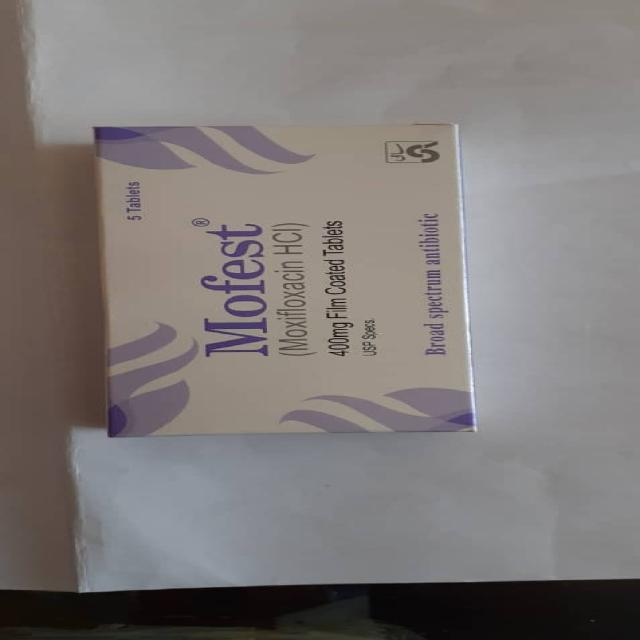drug-name: (195, 223, 272, 364)
